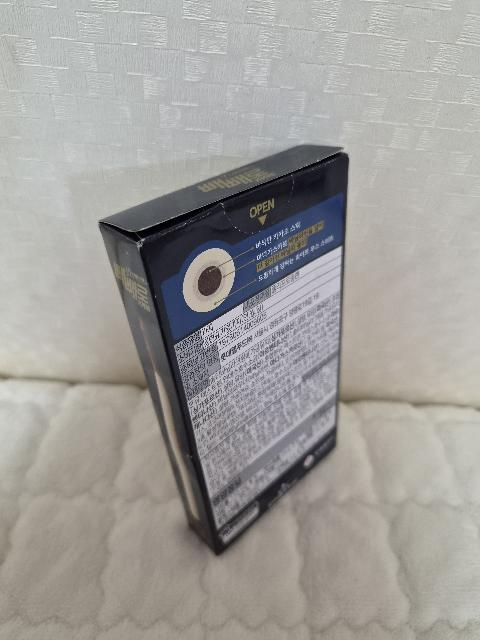pepero: (98, 144, 349, 556)
